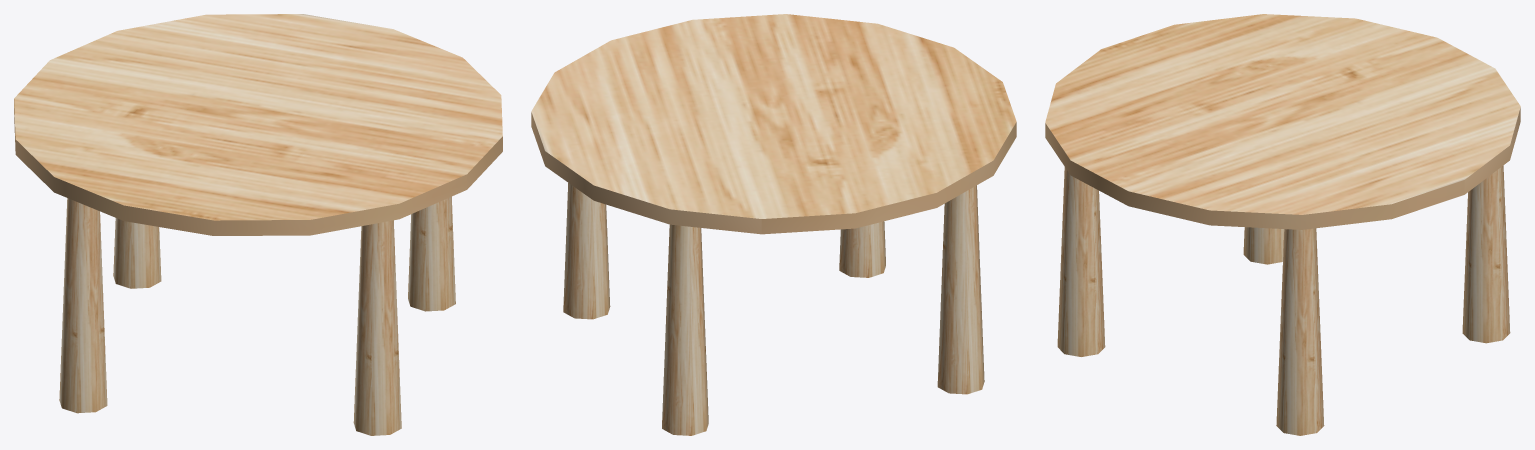
The model's file is Table1.fbx.
3 renders of one model, left to right at view 1: azimuth 30°, elevation 25°; view 2: azimuth 150°, elevation 25°; view 3: azimuth 270°, elevation 25°, orthographic. The views are drawn at different scales.
Visible parts, largest first — view 1: Table1; view 2: Table1; view 3: Table1.
Part boxes in pixels (x1,y1,x2,y2): Table1: (14, 14, 502, 435); Table1: (531, 14, 1016, 435); Table1: (1045, 14, 1520, 435).
Bounding box in the file's own units: 90.61 × 47.49 × 90.61.
